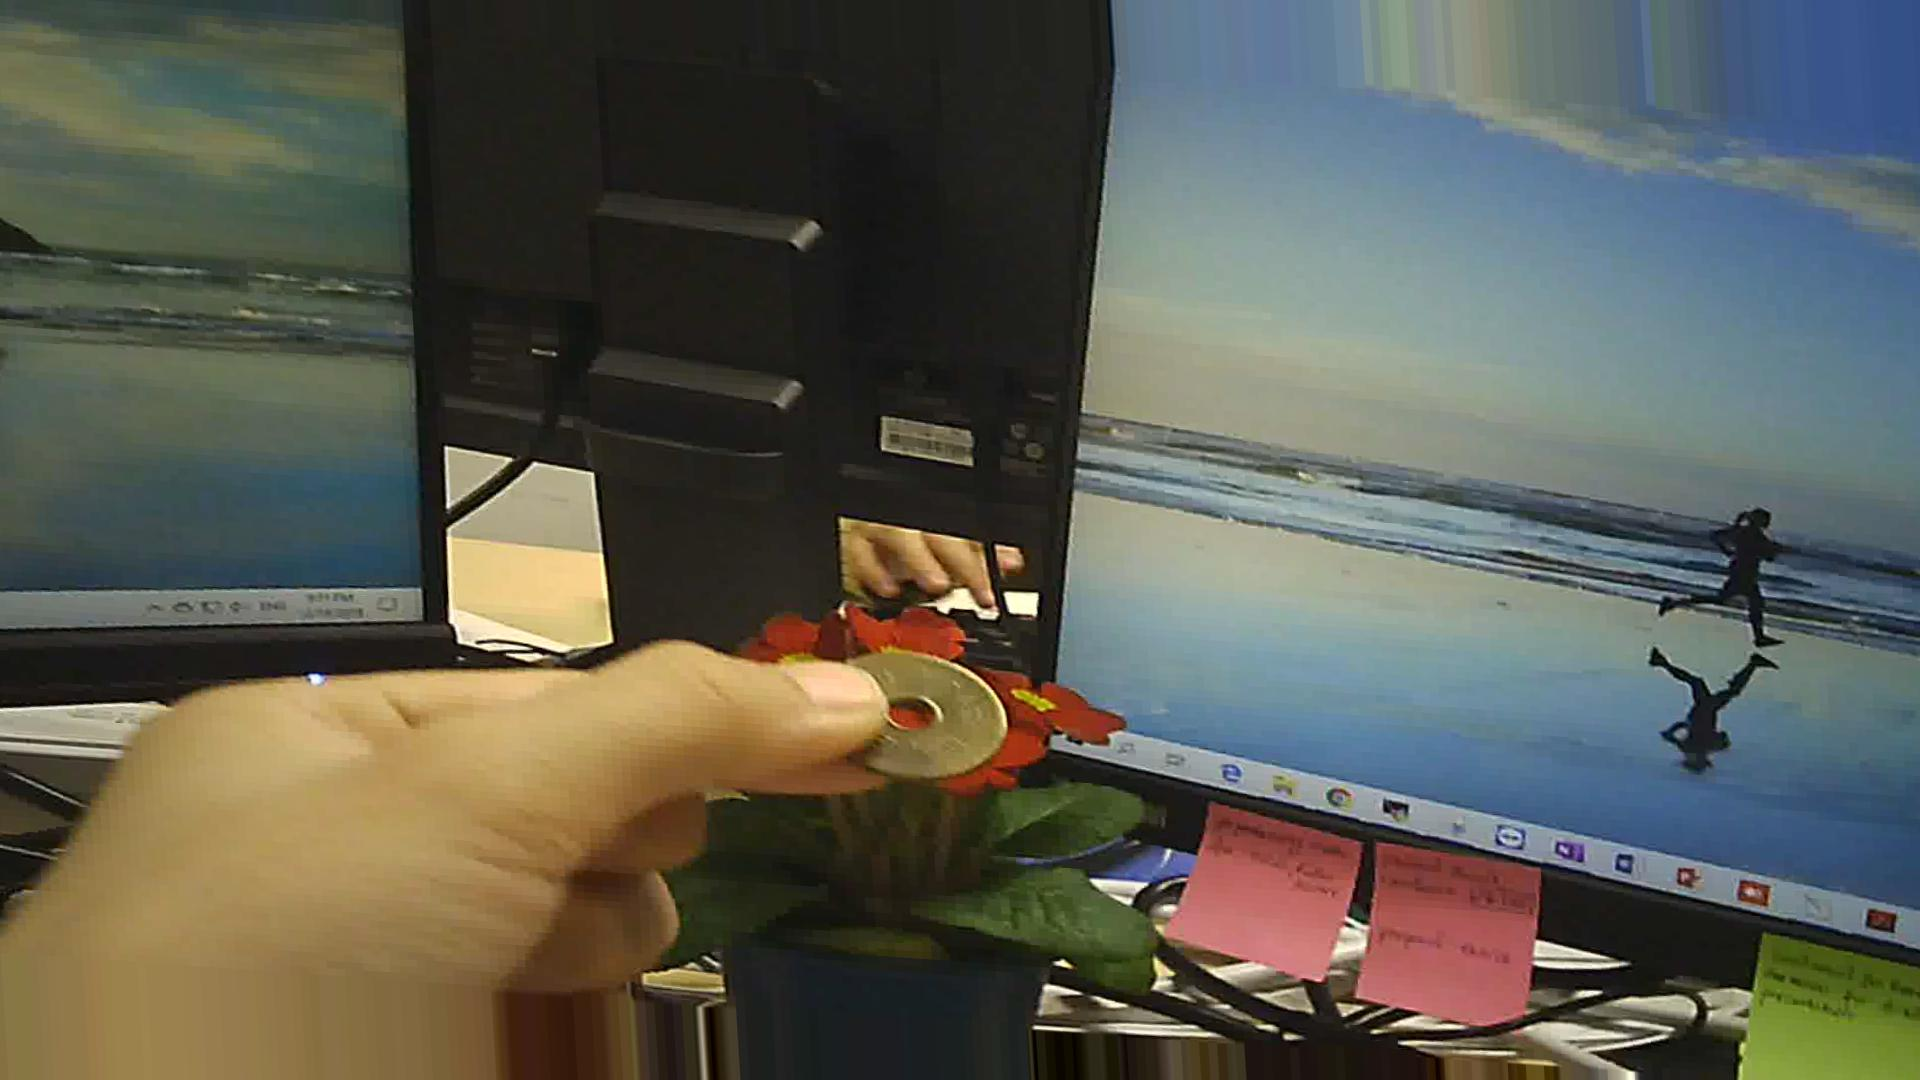5 Yen: (832, 647, 1011, 794)
